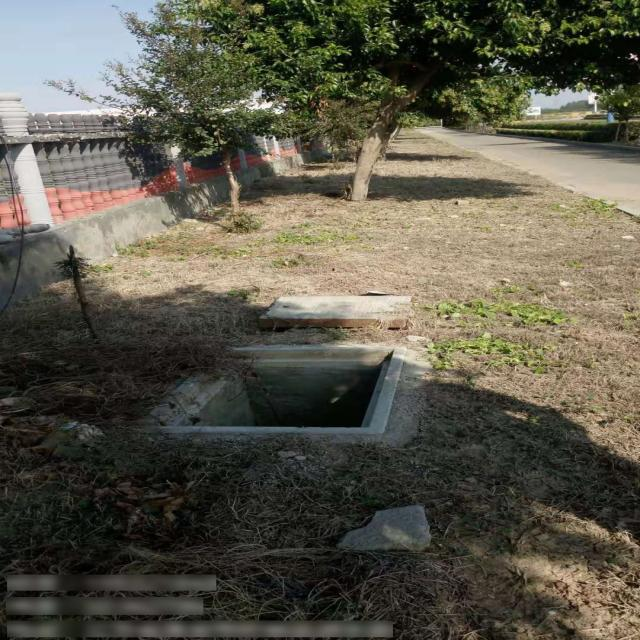Faulty: (130, 344, 406, 436)
